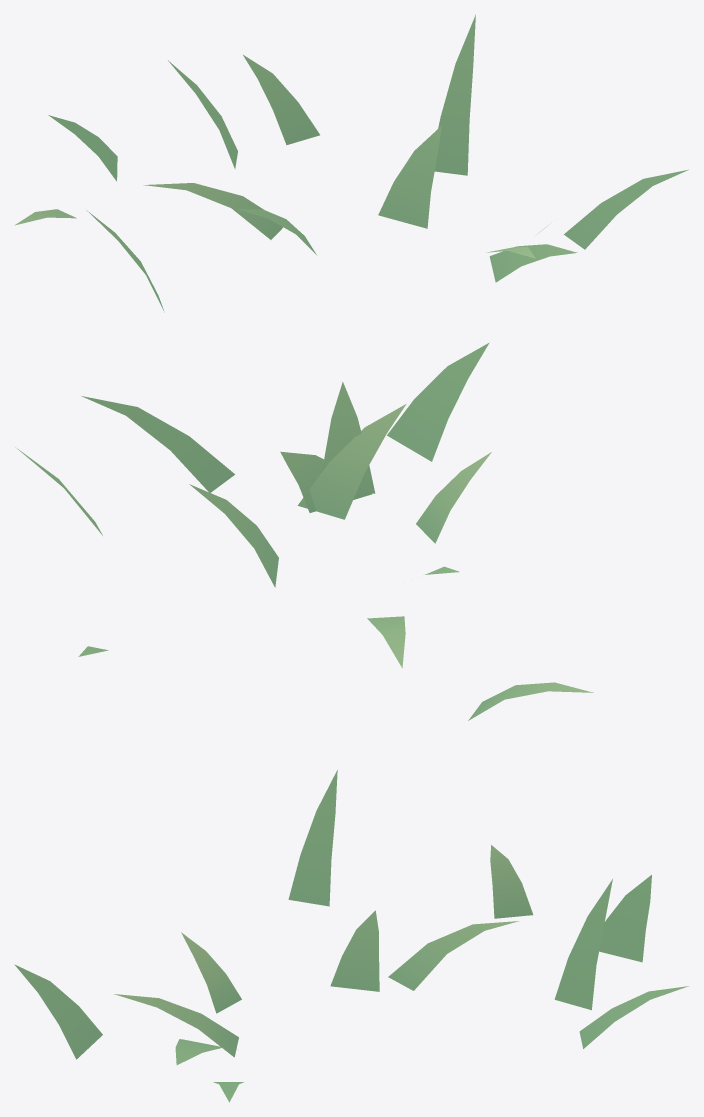
The model's file is grass_sward_far_b.glb.
3 renders of one model, top to bottom at view 1: azimuth 30°, elevation 25°; view 2: azimuth 150°, elevation 25°; view 3: azimuth 270°, elevation 25°, orthographic. The views are drawn at different scales.
Parts seen in each view (by area): view 1: soft; view 2: soft; view 3: soft.
Boxes of the visible parts, x1=… form: soft: x1=14, y1=14, x2=688, y2=312; soft: x1=15, y1=342, x2=593, y2=720; soft: x1=14, y1=770, x2=688, y2=1102.
Size of the model in its own units: 1.01 by 0.2118 by 1.05.
